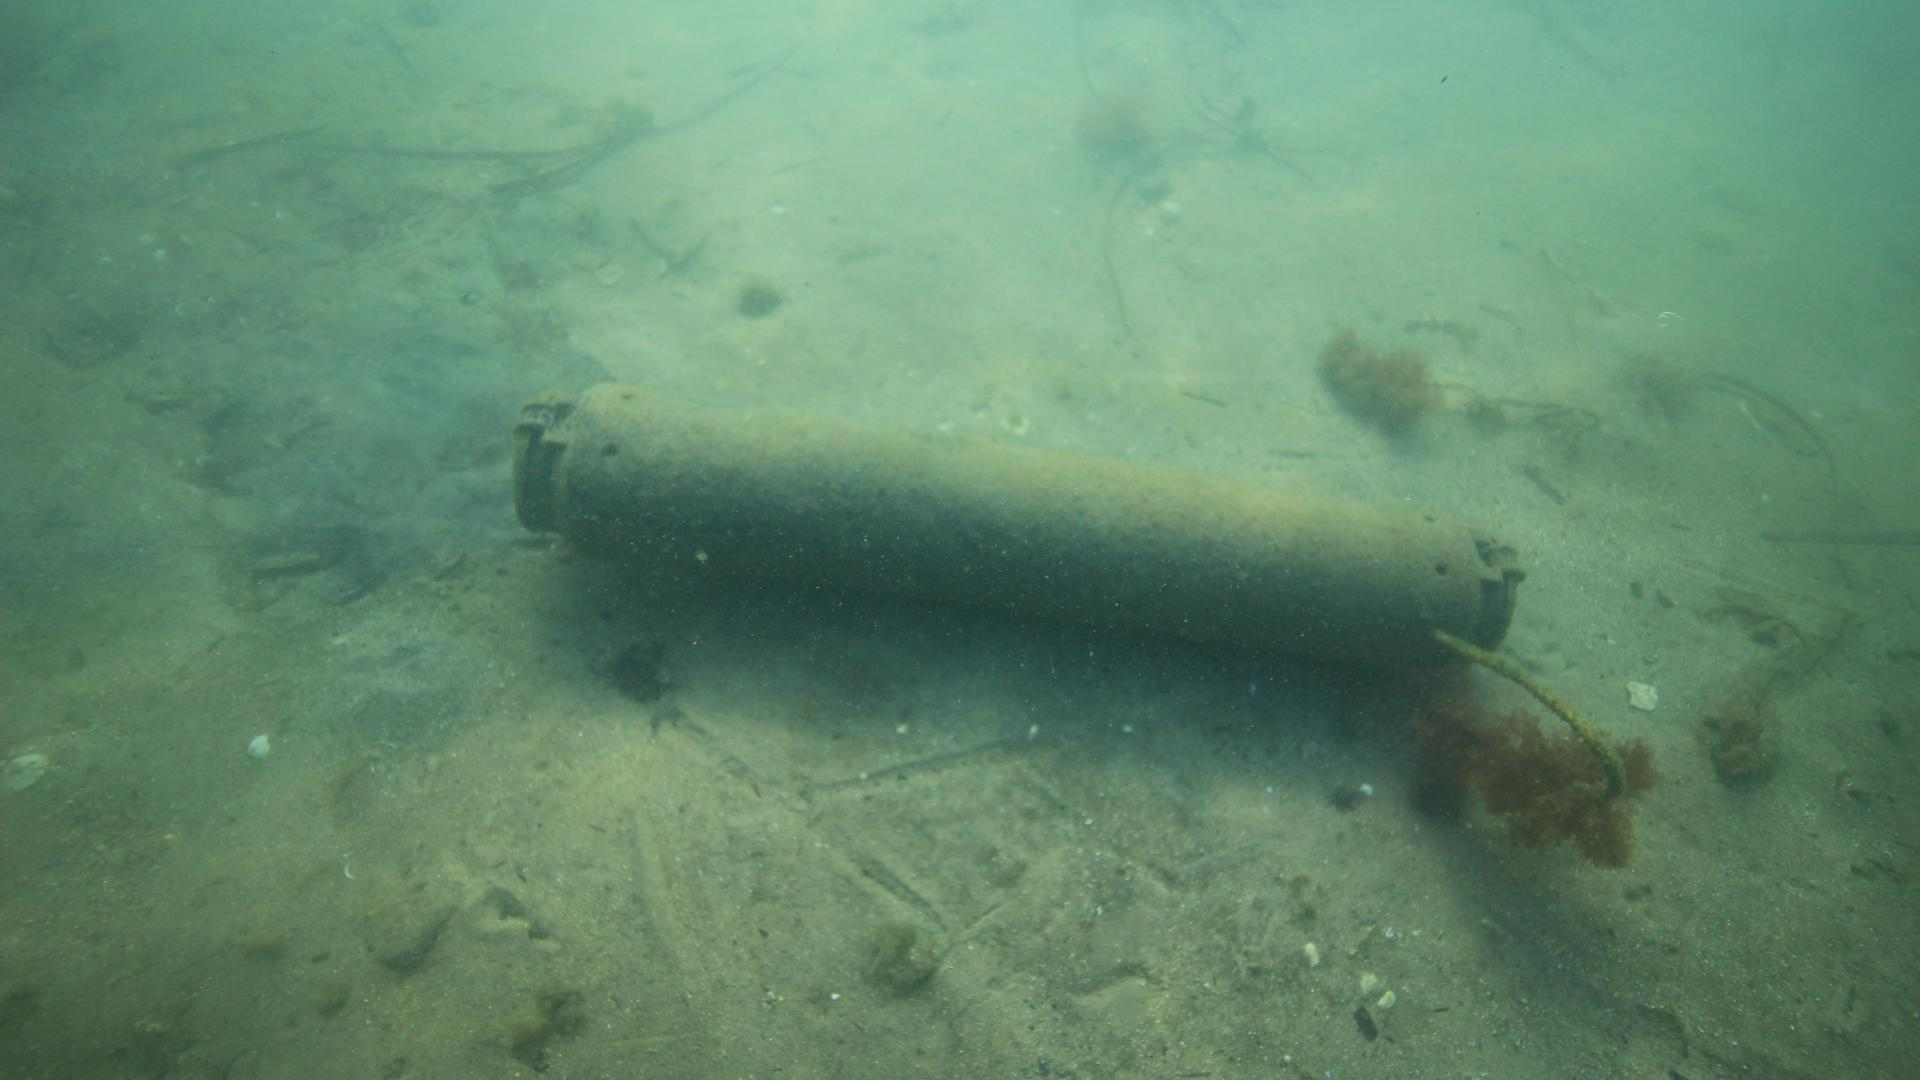eel fish trap: (512, 377, 1523, 676)
rope: (1431, 625, 1634, 807)
